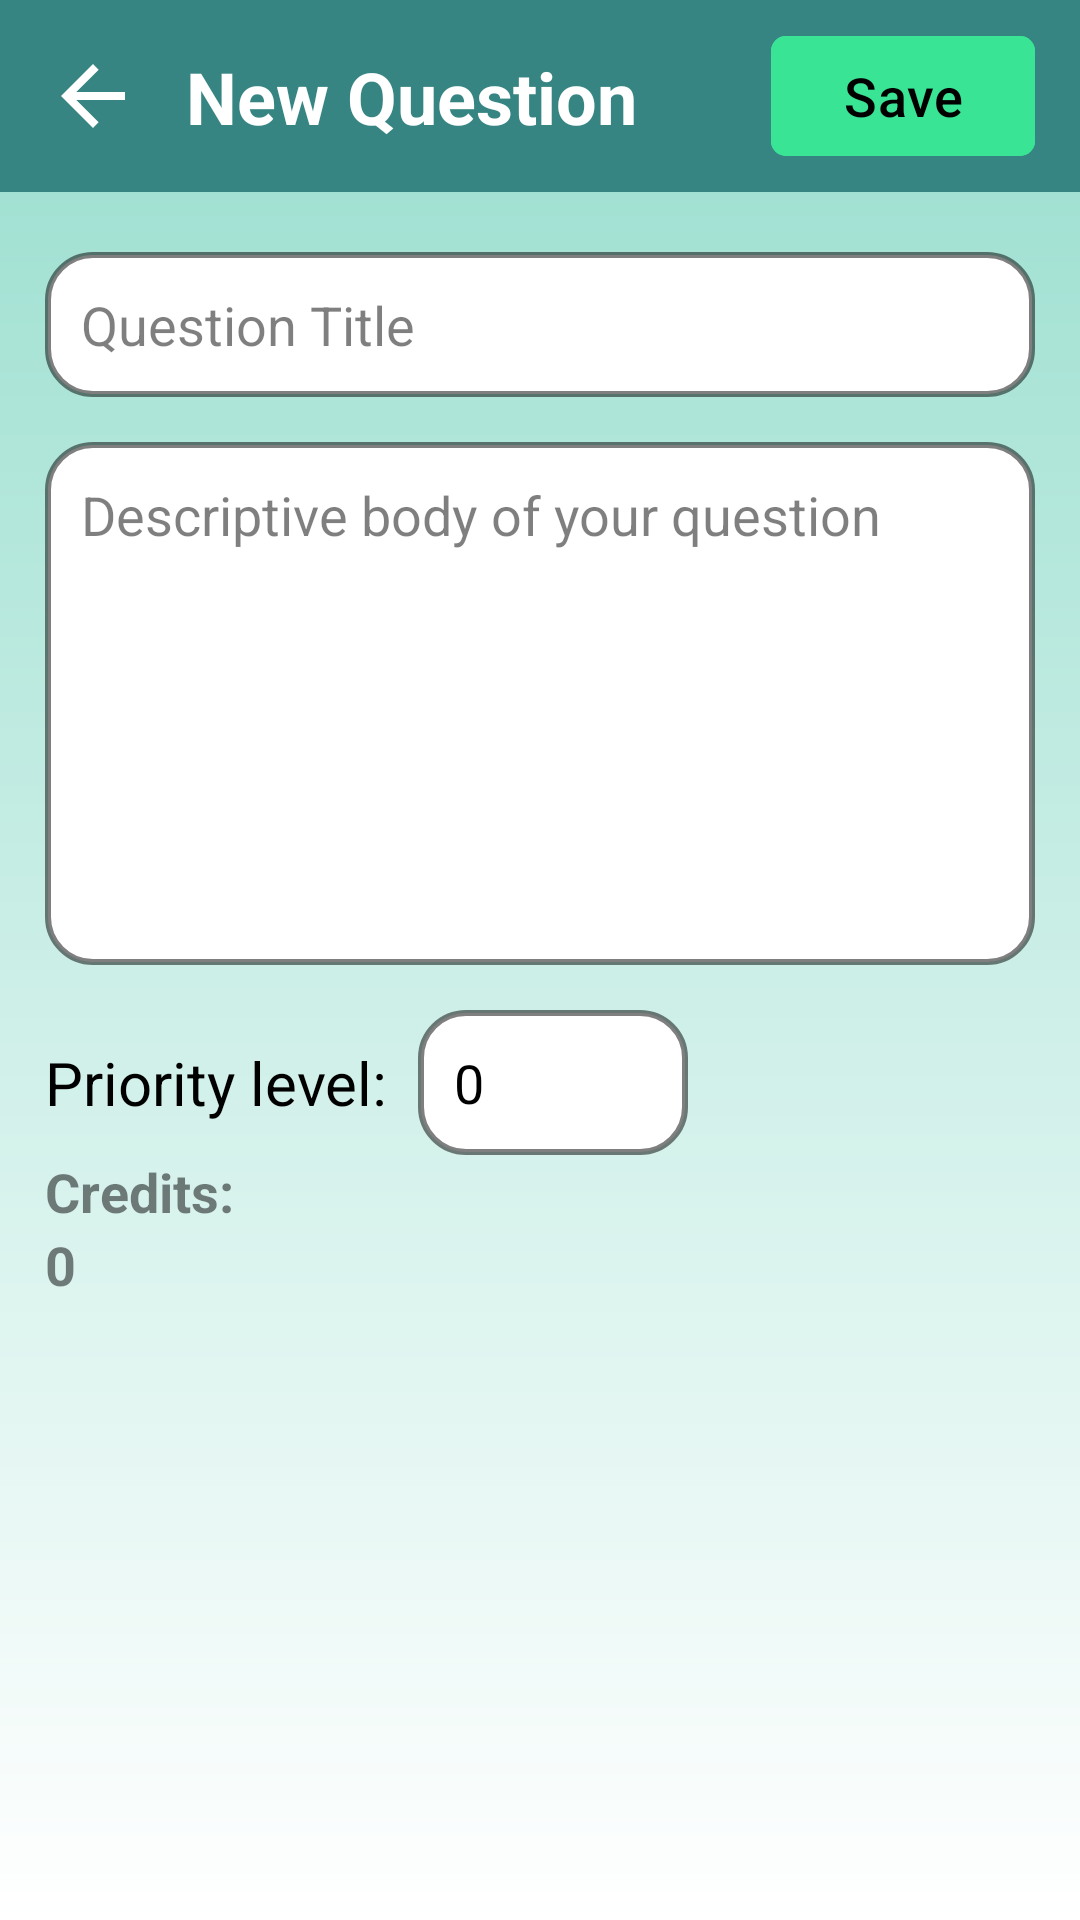

Named icons in this screenshot (1080×1920) and their centers, [x,y]:
Back: [93,96]
